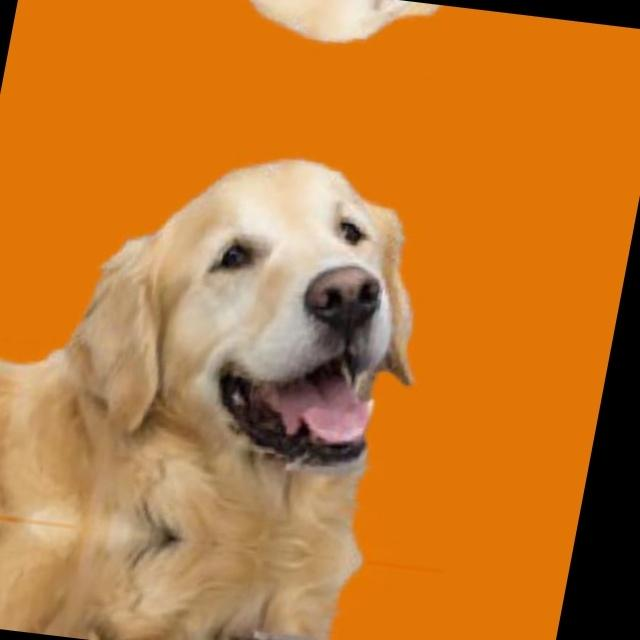dog: (45, 115, 492, 514), (125, 0, 520, 85), (13, 576, 405, 640)
